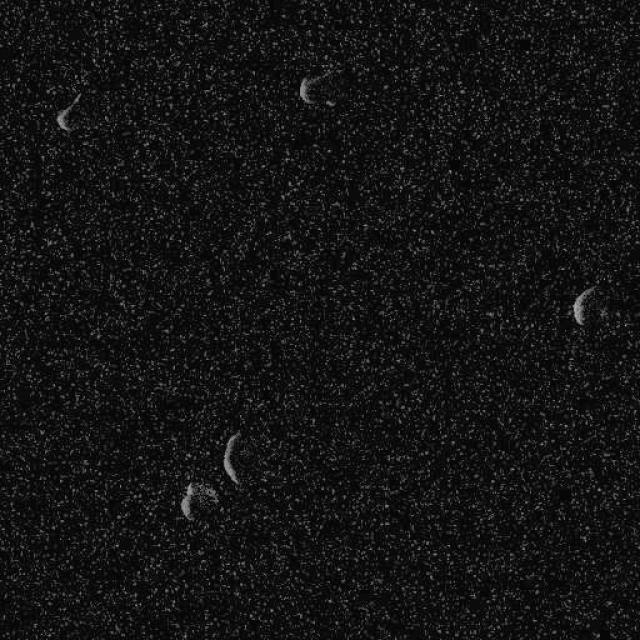D2: (179, 480, 219, 522), (570, 284, 602, 326), (55, 91, 83, 132), (222, 430, 242, 486), (298, 74, 316, 105)
